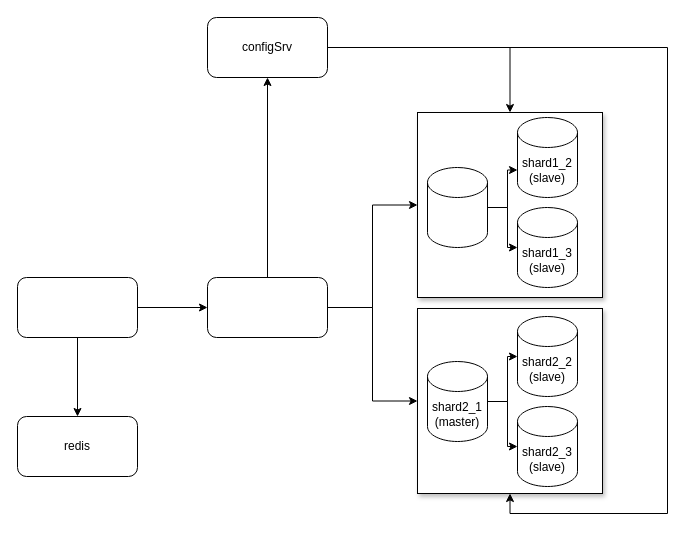
Image size: 693x539. Some labels were removed from this diagram. Each missing label, with the centre of its shape:
"mongos_router" belongs at [267,307].
"pymongo-api" belongs at [77,307].
"shard1_1 (master)" belongs at [457,207].
